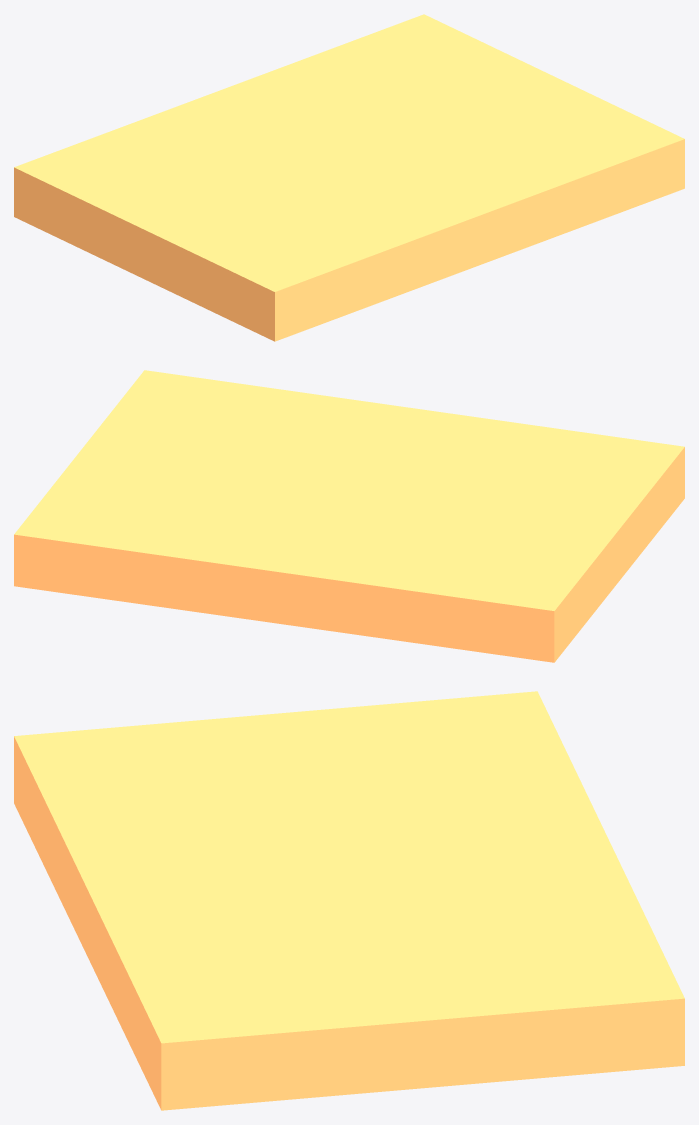
Rendered from approach-stone-2.glb.
The picture shows the model from 3 angles, top to bottom: view 1: azimuth 30°, elevation 25°; view 2: azimuth 150°, elevation 25°; view 3: azimuth 270°, elevation 25°; orthographic projection. The views are drawn at different scales.
Parts seen in each view (by area): view 1: Approach Stone 2; view 2: Approach Stone 2; view 3: Approach Stone 2.
Part boxes in pixels (<box>): Approach Stone 2: <box>14,14,684,341</box>; Approach Stone 2: <box>14,370,684,662</box>; Approach Stone 2: <box>14,691,684,1110</box>.
Bounding box in the file's own units: 11.23 × 1 × 9.04.
